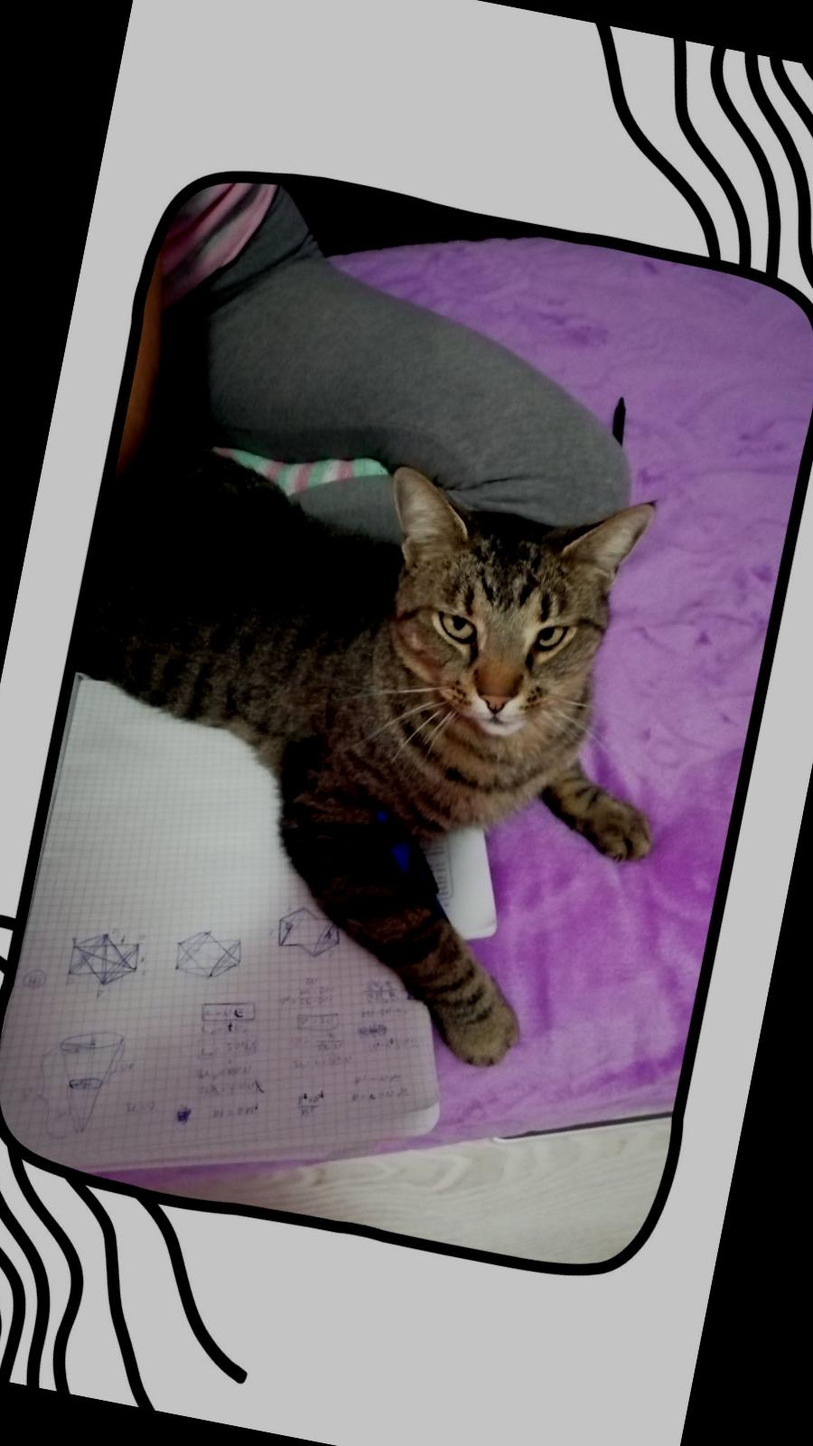macka: (7, 398, 714, 1090)
